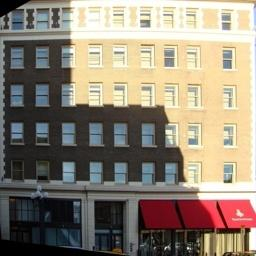building: (0, 0, 254, 256)
